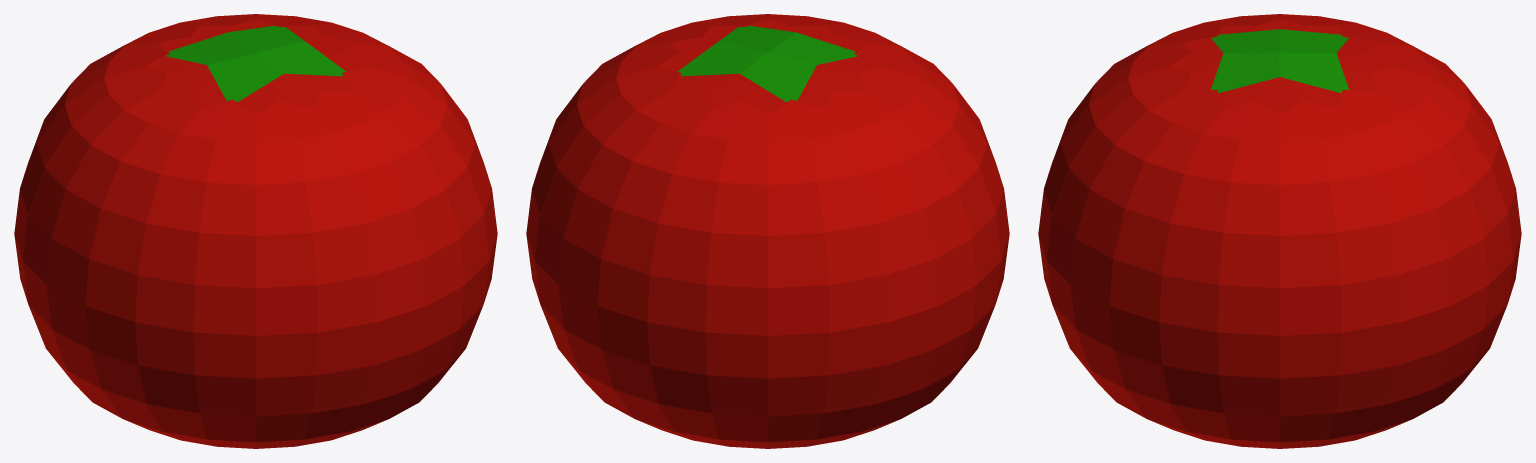
The model's file is tomato.fbx.
3 renders of one model, left to right at view 1: azimuth 30°, elevation 25°; view 2: azimuth 150°, elevation 25°; view 3: azimuth 270°, elevation 25°, orthographic.
Parts seen in each view (by area): view 1: Cube, Plane; view 2: Cube, Plane; view 3: Cube, Plane.
Boxes of the visible parts, box(x1,y1,x2,y2) form: Cube: box(14, 14, 497, 448); Plane: box(165, 25, 346, 101); Cube: box(526, 14, 1009, 448); Plane: box(677, 25, 858, 101); Cube: box(1038, 14, 1521, 448); Plane: box(1211, 29, 1348, 92).
Size of the model in its own units: 193 by 154 by 193.
